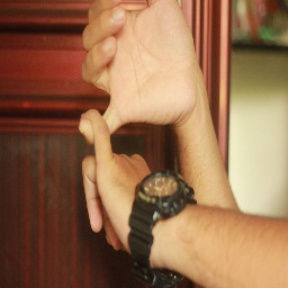S: (66, 2, 212, 249)
